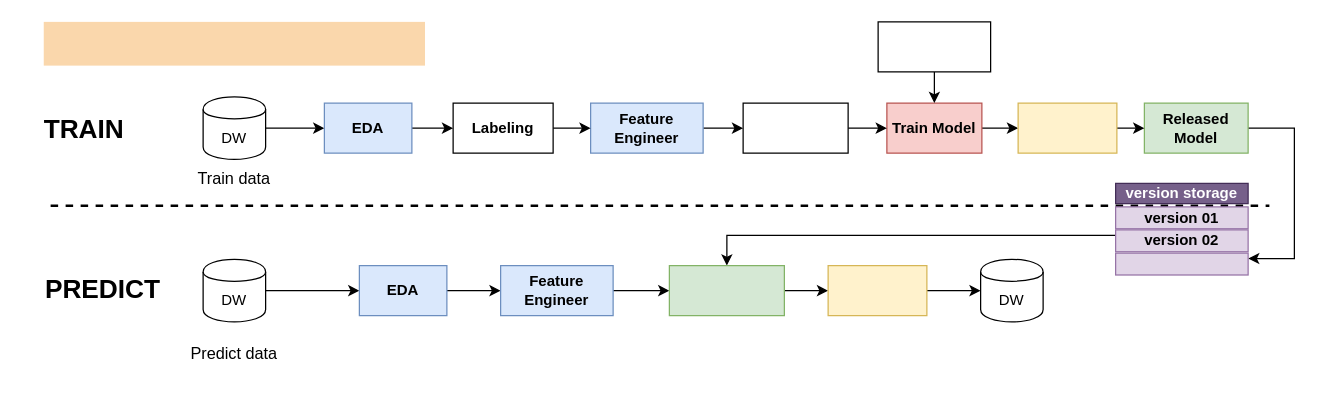
Some shapes in this 1326 by 394 pixel diagram are drawn without their labels. The centre of each missing label's shape, as x and y in pixels:
"Coding Flow" belongs at [233,43].
"Evaluation" belongs at [1067,127].
"Load Trained Model" belongs at [726,290].
"Model Structure" belongs at [934,46].
"Predict Result" belongs at [877,290].
"Train Test Split" belongs at [795,127].
"version 03" belongs at [1181,263].
